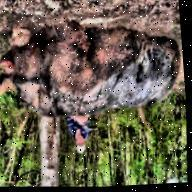boar: (0, 13, 188, 137)
